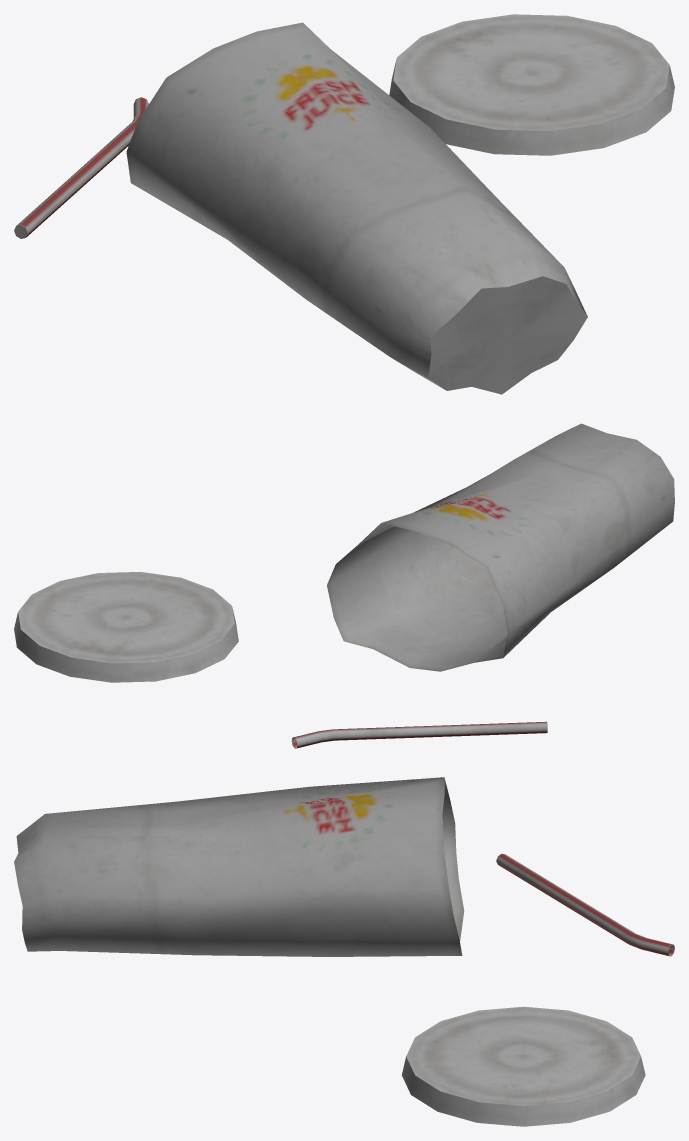
The model's file is SM_Small_Trash_Bottle_10.FBX.
The picture shows the model from 3 angles, top to bottom: view 1: azimuth 30°, elevation 25°; view 2: azimuth 150°, elevation 25°; view 3: azimuth 270°, elevation 25°; orthographic projection. The views are drawn at different scales.
Visible parts, largest first — view 1: SM_Small_Trash_Bottle_10_LOD0; view 2: SM_Small_Trash_Bottle_10_LOD0; view 3: SM_Small_Trash_Bottle_10_LOD0.
Boxes of the visible parts, left/top/right/bottom form: SM_Small_Trash_Bottle_10_LOD0: left=14, top=14, right=674, bottom=394; SM_Small_Trash_Bottle_10_LOD0: left=14, top=423, right=674, bottom=748; SM_Small_Trash_Bottle_10_LOD0: left=14, top=777, right=674, bottom=1126.
Size of what is drawn, in the model's own units: 17.68 by 18.39 by 4.73.
